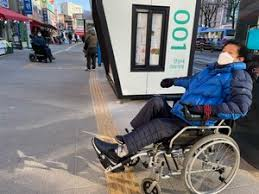guide_blocks: (94, 112, 138, 194), (89, 68, 104, 106), (25, 64, 88, 71)
